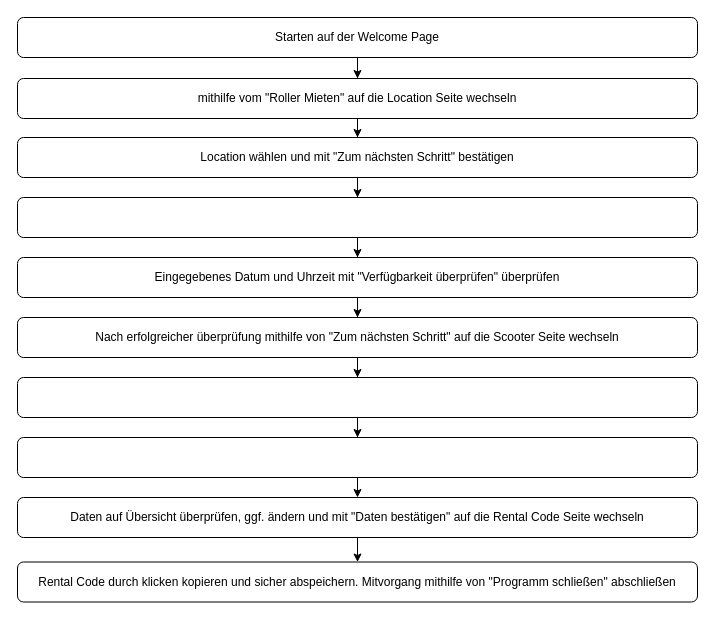
This 715x620 diagram has some shape labels left out. The centre of each missing label's shape, as x and y in pixels:
auf der Termin Seite Datum und Uhrzeit wählen: (x=357, y=217)
Persönliche Daten eingeben und mit "zum nächsten Schritt" bestätigen: (x=357, y=457)
Scooter auswählen und mit "Zum nächsten Schirtt" bestätigen: (x=357, y=397)
